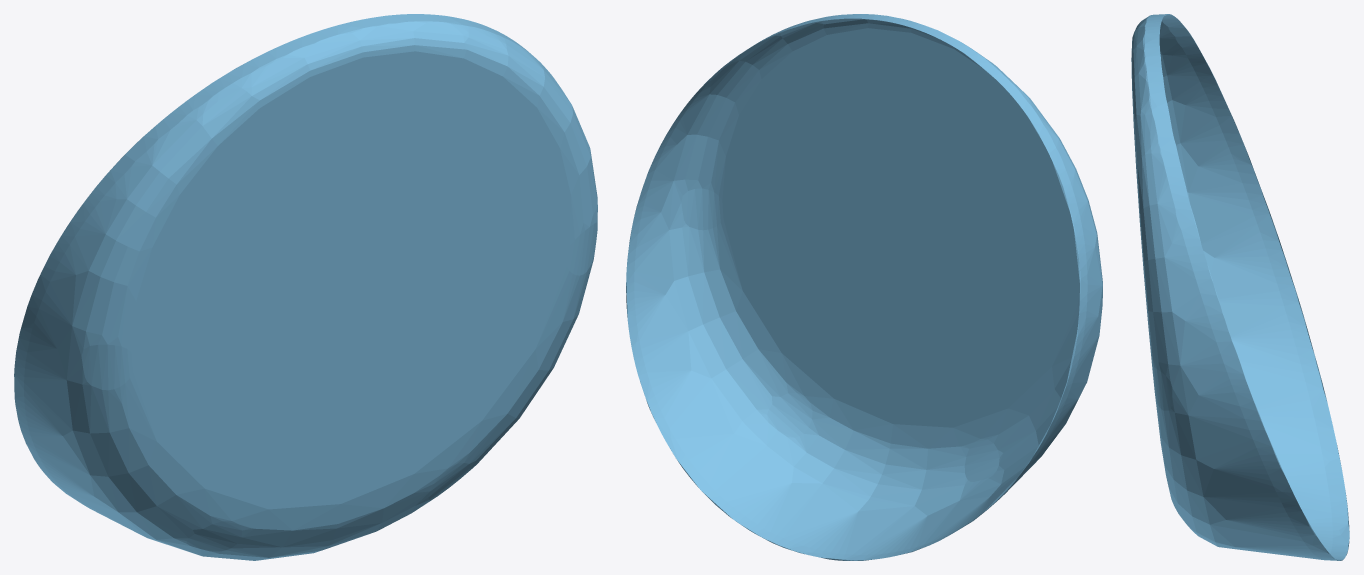
Rendered from ur10_e_link2_visible_vis_3.dae.
The picture shows the model from 3 angles, left to right: view 1: azimuth 30°, elevation 25°; view 2: azimuth 150°, elevation 25°; view 3: azimuth 270°, elevation 25°; orthographic projection. The views are drawn at different scales.
Visible parts, largest first — view 1: node; view 2: node; view 3: node.
Part boxes in pixels (x1,y1,x2,y2): node: (14, 14, 597, 560); node: (626, 14, 1102, 560); node: (1131, 14, 1349, 560).
Size of the model in its own units: 0.1504 by 0.1503 by 0.06.
